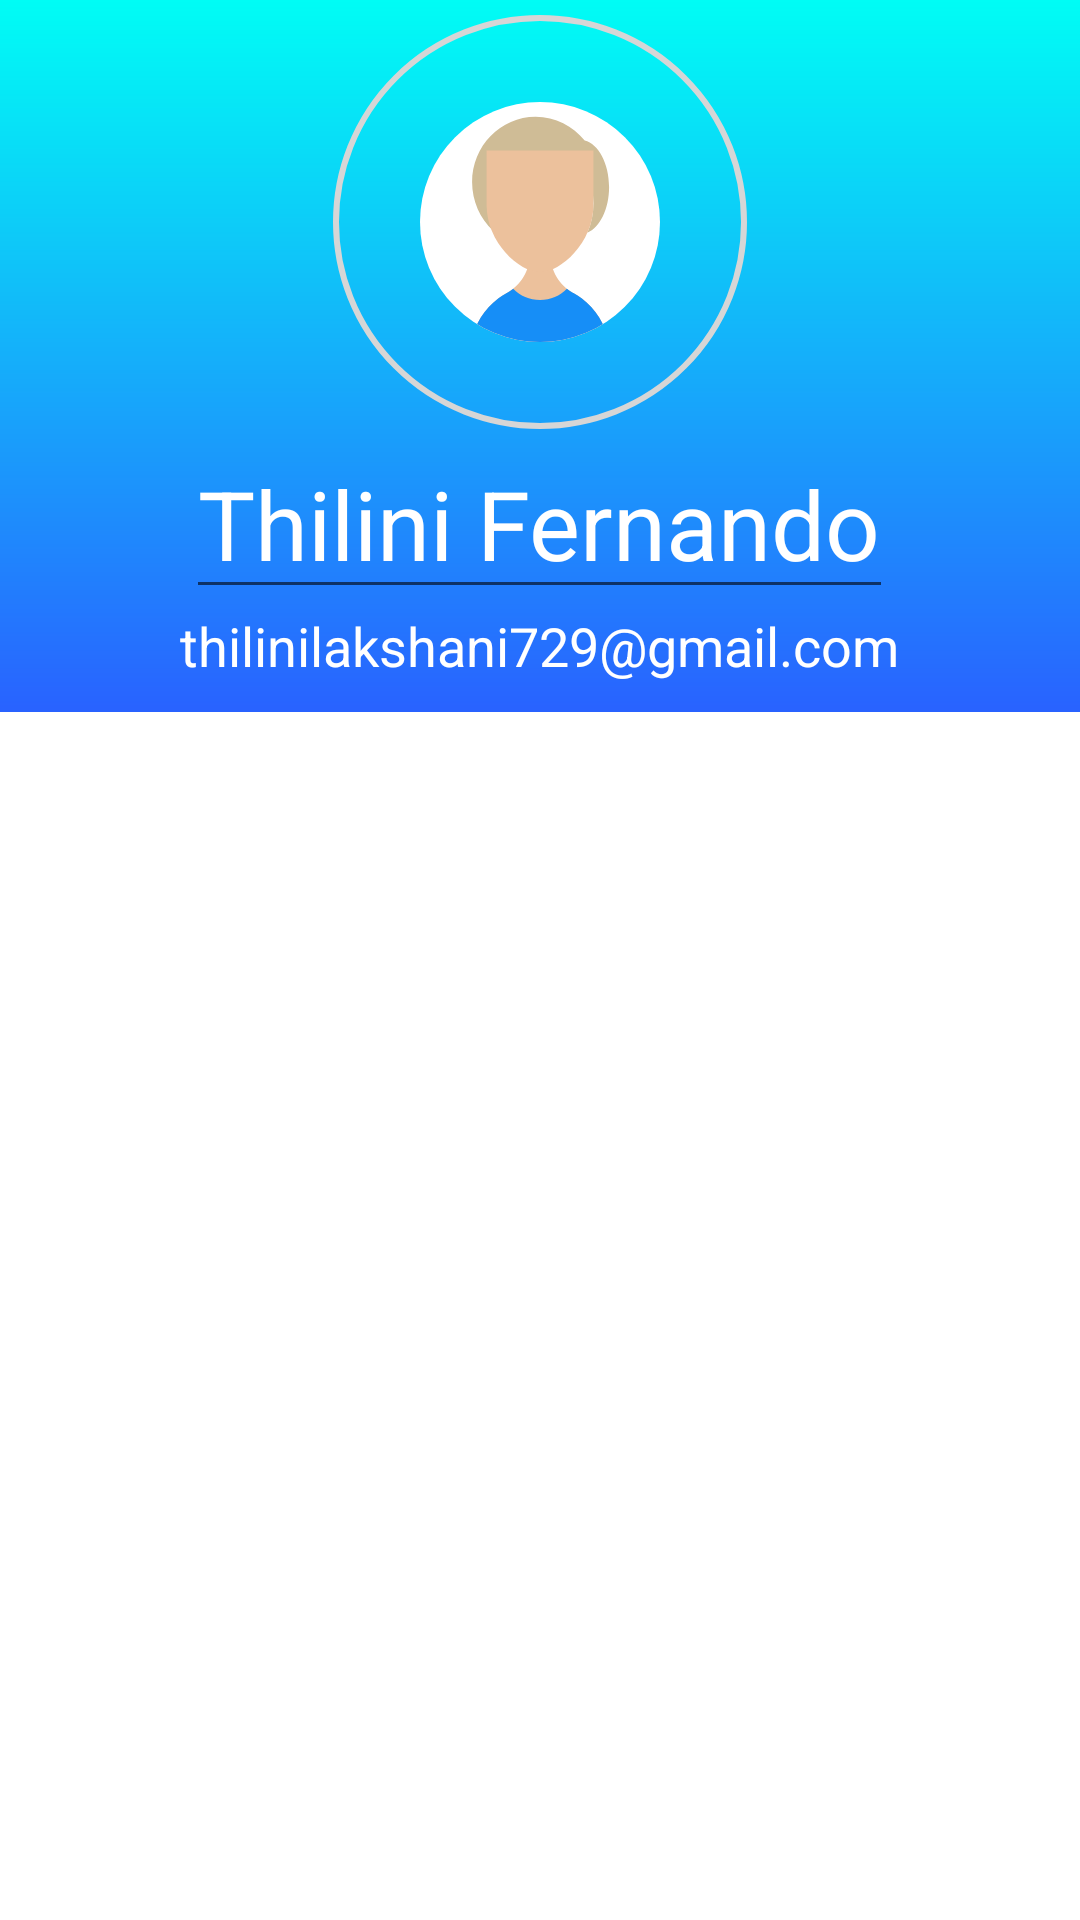

Point at icon controls on the screen. Image size 1080 × 1920, points as (x=x, y=y).
user circle: (x=540, y=222)
